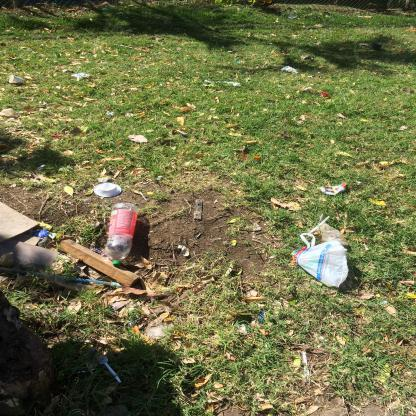karton: (320, 184, 348, 196)
plastik: (292, 234, 350, 289), (105, 204, 139, 267), (98, 356, 123, 384), (95, 184, 123, 199), (91, 249, 107, 258)
